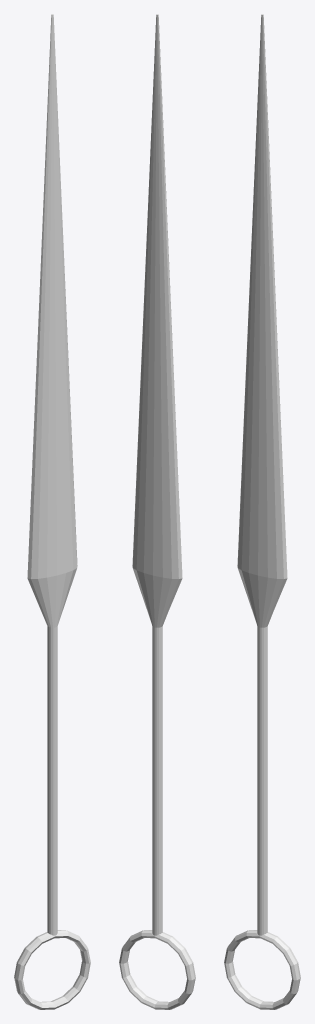
File: needle.fbx
The picture shows the model from 3 angles, left to right: view 1: azimuth 30°, elevation 25°; view 2: azimuth 150°, elevation 25°; view 3: azimuth 330°, elevation 25°; orthographic projection.
Visible parts, largest first — view 1: Needle; view 2: Needle; view 3: Needle.
Part boxes in pixels (bbox=[...]): Needle: bbox=[14, 14, 90, 1009]; Needle: bbox=[119, 14, 195, 1009]; Needle: bbox=[224, 14, 300, 1009].
Size of the model in its own units: 32.23 by 410 by 6.71.
Materials: 1 (1 with a texture image).
